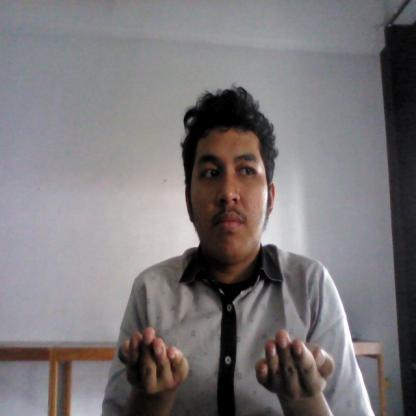Apa: (113, 324, 336, 412)
